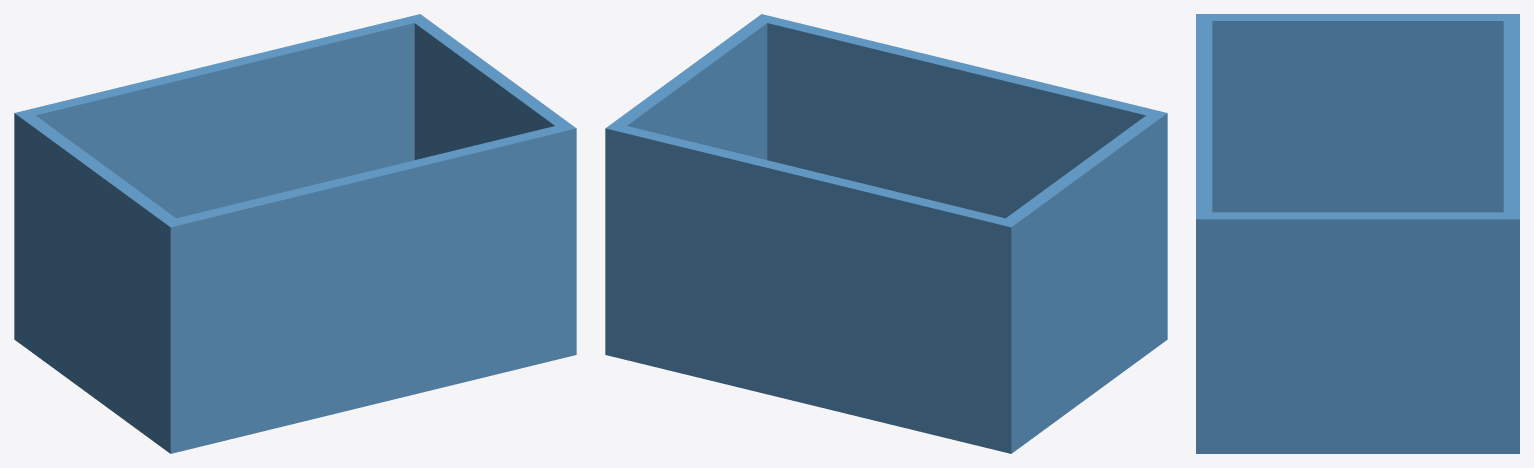
File: room-binary.fbx
3 renders of one model, left to right at view 1: azimuth 30°, elevation 25°; view 2: azimuth 150°, elevation 25°; view 3: azimuth 270°, elevation 25°, orthographic. The views are drawn at different scales.
Parts seen in each view (by area): view 1: South, North, West, East, Floor; view 2: North, South, West, East, Floor; view 3: East, West, North, South, Floor.
Boxes of the visible parts, box(x1,y1,x2,y2) form: South: box(163, 122, 576, 439); North: box(14, 14, 427, 330); West: box(22, 115, 175, 433); East: box(414, 20, 568, 159); Floor: box(14, 325, 576, 453); North: box(605, 122, 1018, 439); South: box(754, 14, 1167, 330); West: box(1006, 115, 1159, 433); East: box(613, 20, 767, 159); Floor: box(605, 325, 1167, 453); East: box(1212, 212, 1503, 439); West: box(1212, 14, 1503, 212); North: box(1503, 14, 1519, 439); South: box(1196, 14, 1212, 439); Floor: box(1196, 439, 1519, 453).
Bounding box in the file's own units: 600 × 400 × 320.
